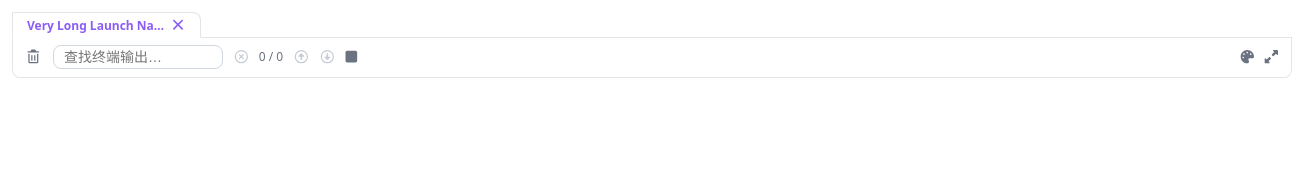
LogPanel 页签关闭按钮与溢出（E3/E4/E5/E7） › tab_tip_positions_right_of_tab_vertically_centered
The image size is (1292, 172).
Hover over the tab "Very Long Launch Na…" at x=107, y=25, box [12,12,201,38]
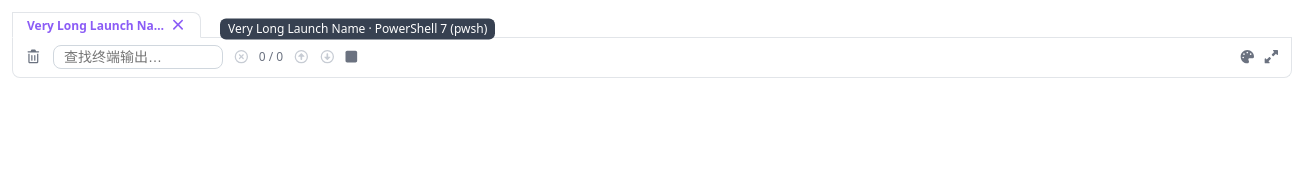
Expected: the text "Very Long Launch Name · PowerShell 7 (pwsh)" is shown, [220,19,495,39]
